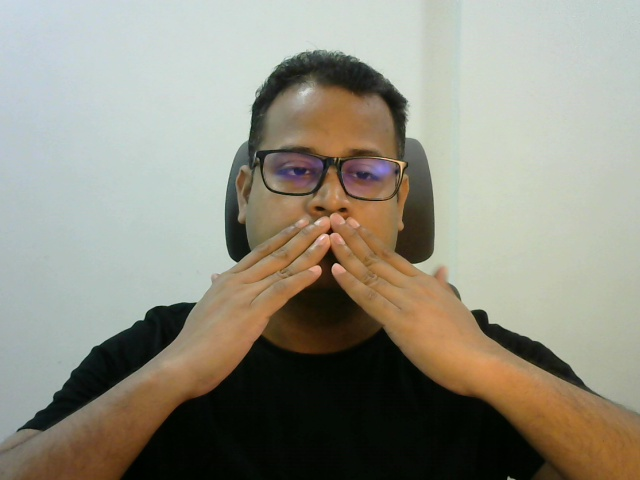ThankYou: (185, 211, 487, 399)
